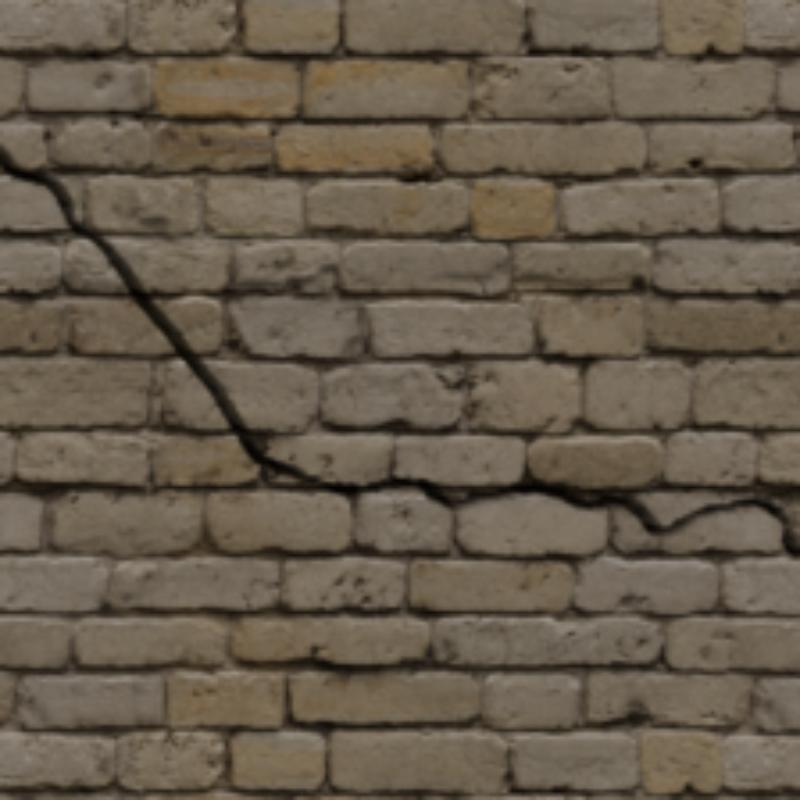pothole: (1, 149, 798, 559)
